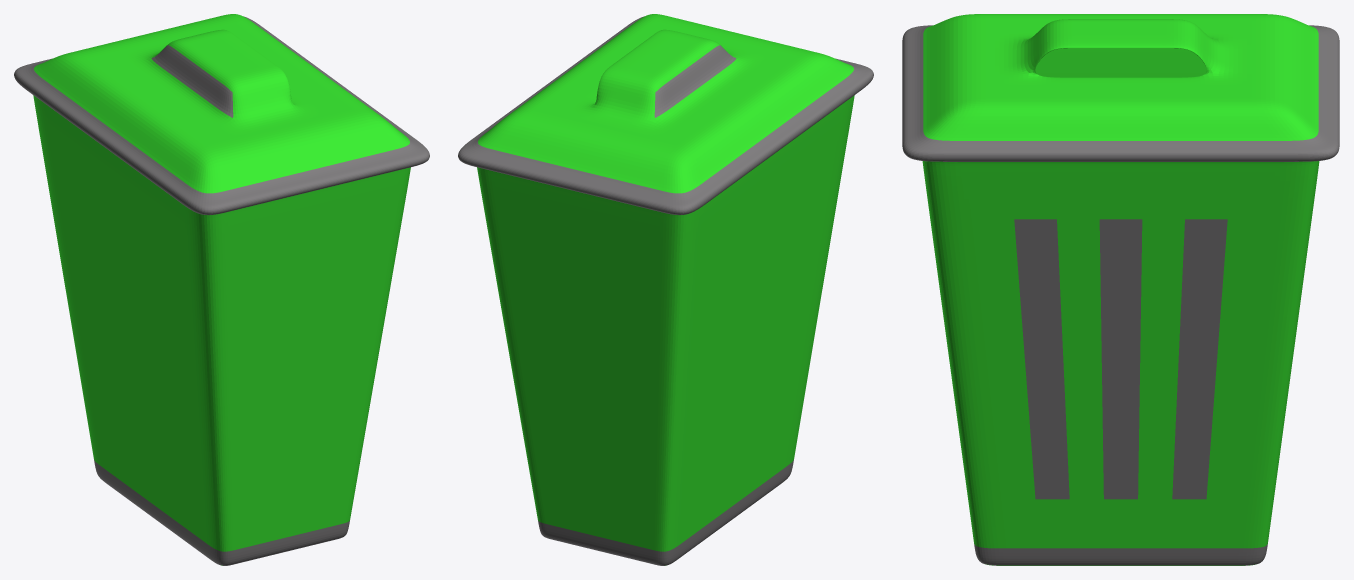
The model's file is Trash Bin.fbx.
The picture shows the model from 3 angles, left to right: view 1: azimuth 30°, elevation 25°; view 2: azimuth 150°, elevation 25°; view 3: azimuth 270°, elevation 25°; orthographic projection. The views are drawn at different scales.
Visible parts, largest first — view 1: Cube; view 2: Cube; view 3: Cube.
Part boxes in pixels (x1,y1,x2,y2): Cube: (14, 14, 429, 565); Cube: (458, 14, 873, 565); Cube: (902, 14, 1339, 565).
Bounding box in the file's own units: 212 × 387 × 303.
